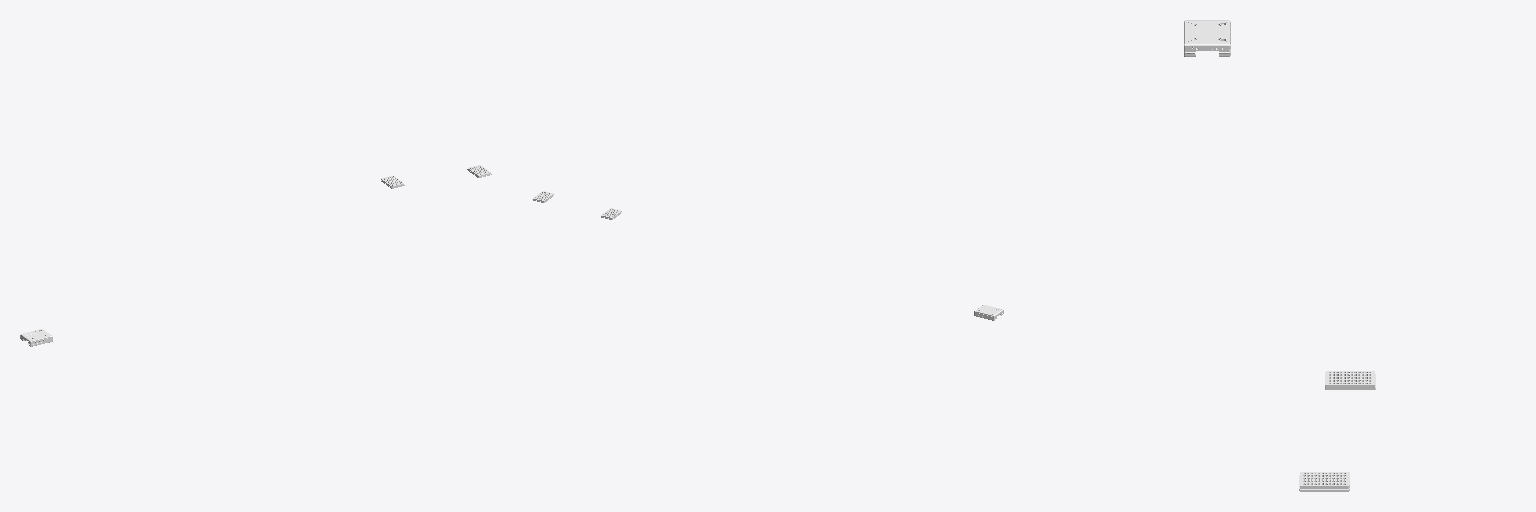
URDF robot description (SimulatedLab-urdf-no-robotic-arm):
<?xml version="1.0" encoding="utf-8"?>
<!-- This URDF was automatically created by SolidWorks to URDF Exporter! Originally created by Stephen Brawner ([email redacted]) 
     Commit Version: 1.6.0-4-g7f85cfe  Build Version: 1.6.7995.38578
     For more information, please see http://wiki.ros.org/sw_urdf_exporter -->
<robot
  name="SimulatedLab-urdf-no-robotic-arm">
  <link
    name="base_link">
    <inertial>
      <origin
        xyz="0.653049682164994 0.306864386533706 0.21880478316424"
        rpy="0 0 0" />
      <mass
        value="462.943637851792" />
      <inertia
        ixx="36.0265418542219"
        ixy="0.00282870253677008"
        ixz="4.69489305833848E-10"
        iyy="76.725665712075"
        iyz="-0.0348331755633981"
        izz="67.5997793901123" />
    </inertial>
    <visual>
      <origin
        xyz="0 0 0"
        rpy="0 0 0" />
      <geometry>
        <mesh
          filename="package://SimulatedLab-urdf-no-robotic-arm/meshes/base_link.STL" />
      </geometry>
      <material
        name="">
        <color
          rgba="0.752941176470588 0.752941176470588 0.752941176470588 1" />
      </material>
    </visual>
    <collision>
      <origin
        xyz="0 0 0"
        rpy="0 0 0" />
      <geometry>
        <mesh
          filename="package://SimulatedLab-urdf-no-robotic-arm/meshes/base_link.STL" />
      </geometry>
    </collision>
  </link>
  <link
    name="slide">
    <inertial>
      <origin
        xyz="-0.0726026016400076 0.0123307277676272 0.00333390495357991"
        rpy="0 0 0" />
      <mass
        value="0.41998332351177" />
      <inertia
        ixx="0.000608866562580182"
        ixy="2.9612485871701E-10"
        ixz="-1.13485325734568E-09"
        iyy="0.000510747138181402"
        iyz="1.16604221081589E-06"
        izz="0.00103925065647953" />
    </inertial>
    <visual>
      <origin
        xyz="0 0 0"
        rpy="0 0 0" />
      <geometry>
        <mesh
          filename="package://SimulatedLab-urdf-no-robotic-arm/meshes/slide.STL" />
      </geometry>
      <material
        name="">
        <color
          rgba="1 1 1 1" />
      </material>
    </visual>
    <collision>
      <origin
        xyz="0 0 0"
        rpy="0 0 0" />
      <geometry>
        <mesh
          filename="package://SimulatedLab-urdf-no-robotic-arm/meshes/slide.STL" />
      </geometry>
    </collision>
  </link>
  <joint
    name="slide-j"
    type="prismatic">
    <origin
      xyz="-1.5388 0.037454 0.0707"
      rpy="0 0 0" />
    <parent
      link="base_link" />
    <child
      link="slide" />
    <axis
      xyz="1 0 0" />
    <limit
      lower="0"
      upper="0"
      effort="0"
      velocity="0" />
  </joint>
  <link
    name="plate-incubator">
    <inertial>
      <origin
        xyz="-4.5958952684888E-05 -7.05328325164567E-05 0.00753805993131557"
        rpy="0 0 0" />
      <mass
        value="0.0868244944825265" />
      <inertia
        ixx="0.000126271352614738"
        ixy="2.40742980192316E-07"
        ixz="8.29625367849804E-09"
        iyy="5.6414449846667E-05"
        iyz="1.27388047133117E-08"
        izz="0.000180549328693109" />
    </inertial>
    <visual>
      <origin
        xyz="0 0 0"
        rpy="0 0 0" />
      <geometry>
        <mesh
          filename="package://SimulatedLab-urdf-no-robotic-arm/meshes/plate-incubator.STL" />
      </geometry>
      <material
        name="">
        <color
          rgba="1 1 1 1" />
      </material>
    </visual>
    <collision>
      <origin
        xyz="0 0 0"
        rpy="0 0 0" />
      <geometry>
        <mesh
          filename="package://SimulatedLab-urdf-no-robotic-arm/meshes/plate-incubator.STL" />
      </geometry>
    </collision>
  </link>
  <joint
    name="plate-incubator-j"
    type="fixed">
    <origin
      xyz="1.4197 0.33999 0.26826"
      rpy="0 0 0" />
    <parent
      link="base_link" />
    <child
      link="plate-incubator" />
    <axis
      xyz="0 0 0" />
  </joint>
  <link
    name="plate-microscope">
    <inertial>
      <origin
        xyz="4.59589526853321E-05 7.05328323838406E-05 0.00753805993131673"
        rpy="0 0 0" />
      <mass
        value="0.0868244944825262" />
      <inertia
        ixx="0.000126271352614738"
        ixy="2.40742980191728E-07"
        ixz="-8.29625367427394E-09"
        iyy="5.64144498466676E-05"
        iyz="-1.27388068978236E-08"
        izz="0.000180549328693109" />
    </inertial>
    <visual>
      <origin
        xyz="0 0 0"
        rpy="0 0 0" />
      <geometry>
        <mesh
          filename="package://SimulatedLab-urdf-no-robotic-arm/meshes/plate-microscope.STL" />
      </geometry>
      <material
        name="">
        <color
          rgba="1 1 1 1" />
      </material>
    </visual>
    <collision>
      <origin
        xyz="0 0 0"
        rpy="0 0 0" />
      <geometry>
        <mesh
          filename="package://SimulatedLab-urdf-no-robotic-arm/meshes/plate-microscope.STL" />
      </geometry>
    </collision>
  </link>
  <joint
    name="plate-microscope-j"
    type="fixed">
    <origin
      xyz="0.89452 0.40325 0.2996"
      rpy="0 0 0" />
    <parent
      link="base_link" />
    <child
      link="plate-microscope" />
    <axis
      xyz="0 0 0" />
  </joint>
</robot>

--- Render facts (derived) ---
The picture shows the robot from 3 angles, left to right: view 1: azimuth 30°, elevation 25°; view 2: azimuth 150°, elevation 25°; view 3: azimuth 270°, elevation 25°; orthographic projection.
Robot: SimulatedLab-urdf-no-robotic-arm — 4 links, 3 joints (1 prismatic, 2 fixed); root link base_link; default pose: every joint at zero.
Visible links, largest first — view 1: none; view 2: none; view 3: slide, plate-incubator, plate-microscope.
Link boxes in pixels (left/top/right/bottom): slide: left=1184, top=20, right=1230, bottom=56; plate-incubator: left=1299, top=472, right=1349, bottom=491; plate-microscope: left=1325, top=371, right=1375, bottom=389.
Size in the robot's own frame: 3.15 by 0.4743 by 0.2601 metres.
3 mesh visuals loaded from 4 distinct referenced files (3 binary STL); not drawn: 1 (reference not matched to a file when rendering).
